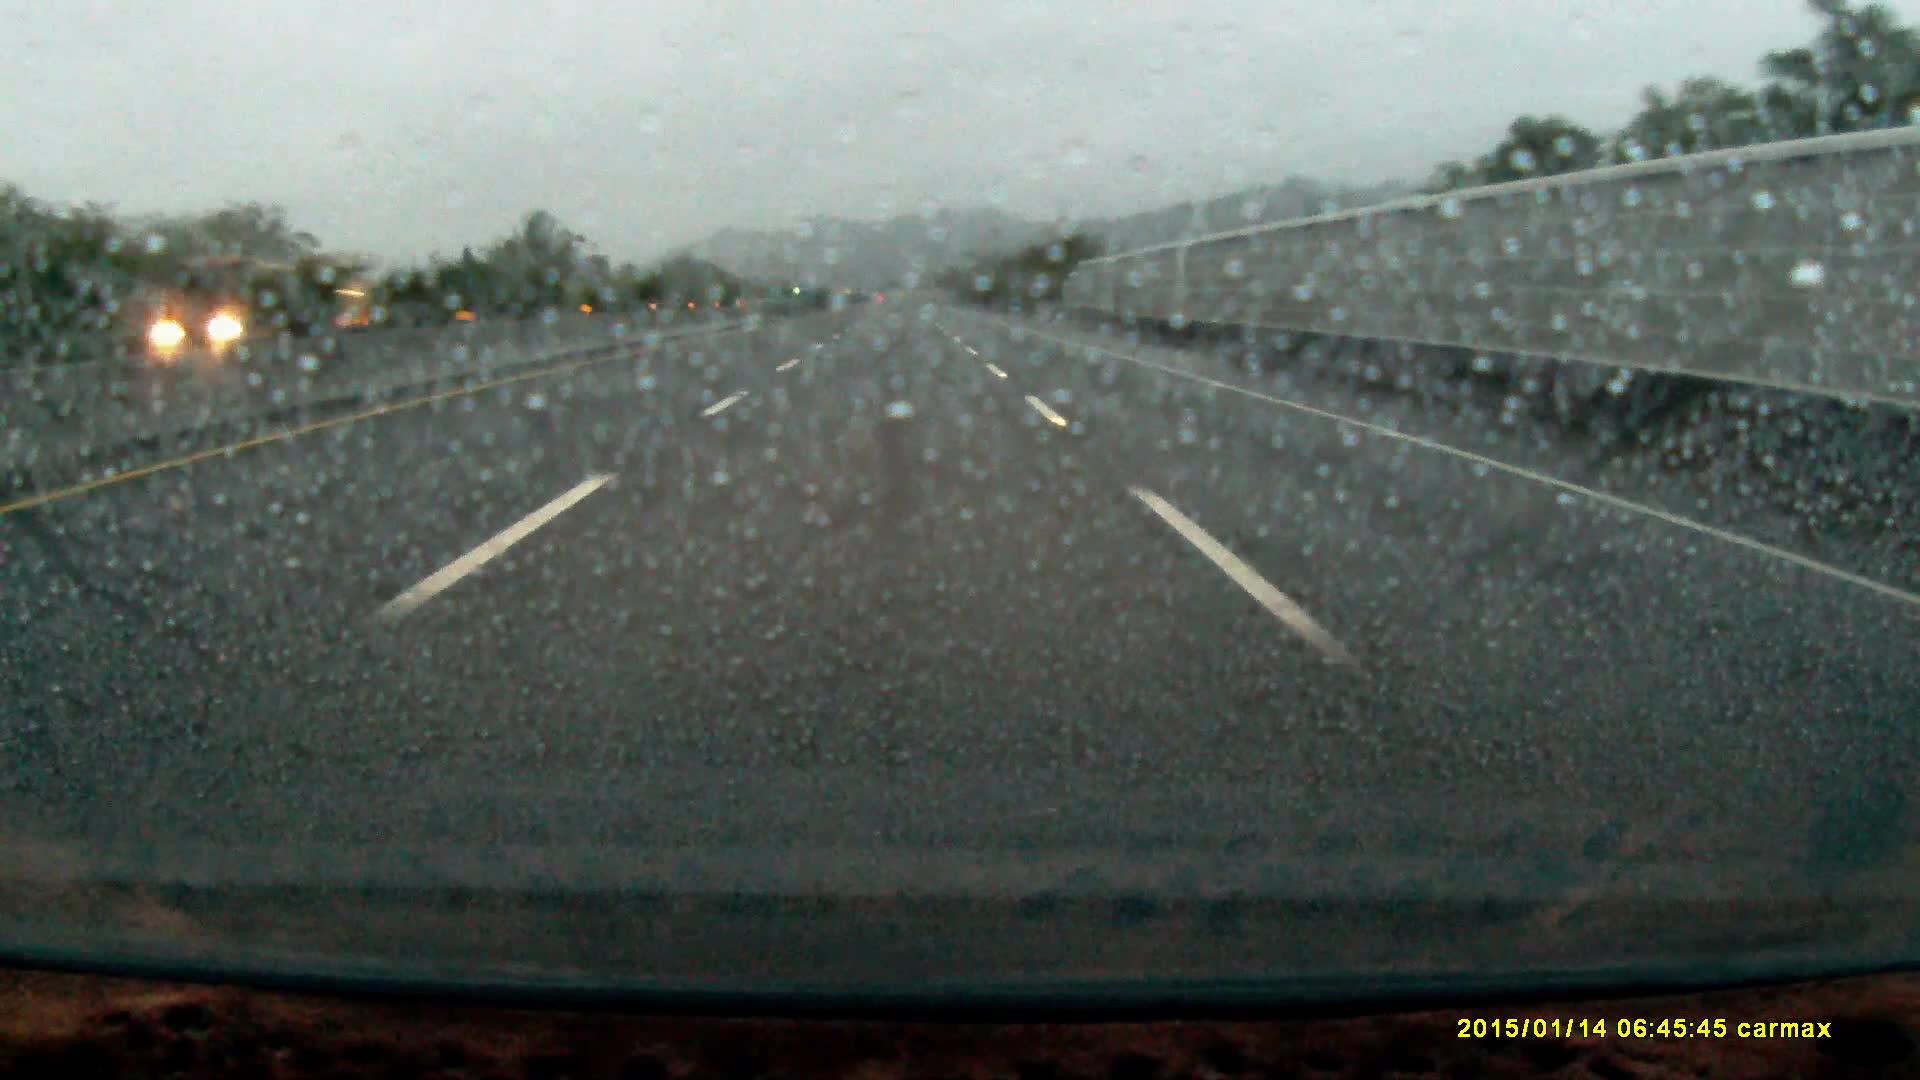vehicle: (132, 255, 360, 373)
